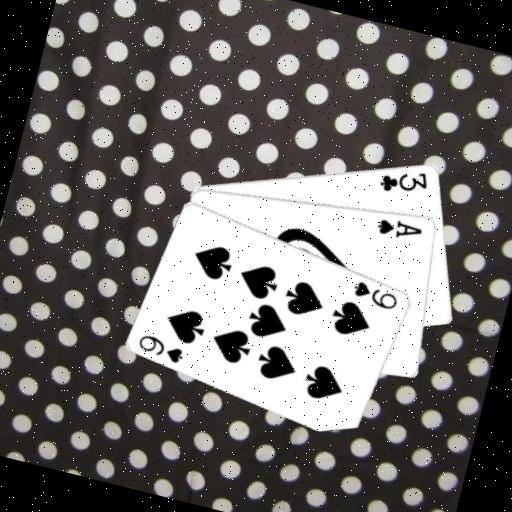3C: (375, 159, 432, 202)
9S: (348, 276, 403, 313), (134, 330, 189, 366)
AS: (373, 212, 426, 245)
